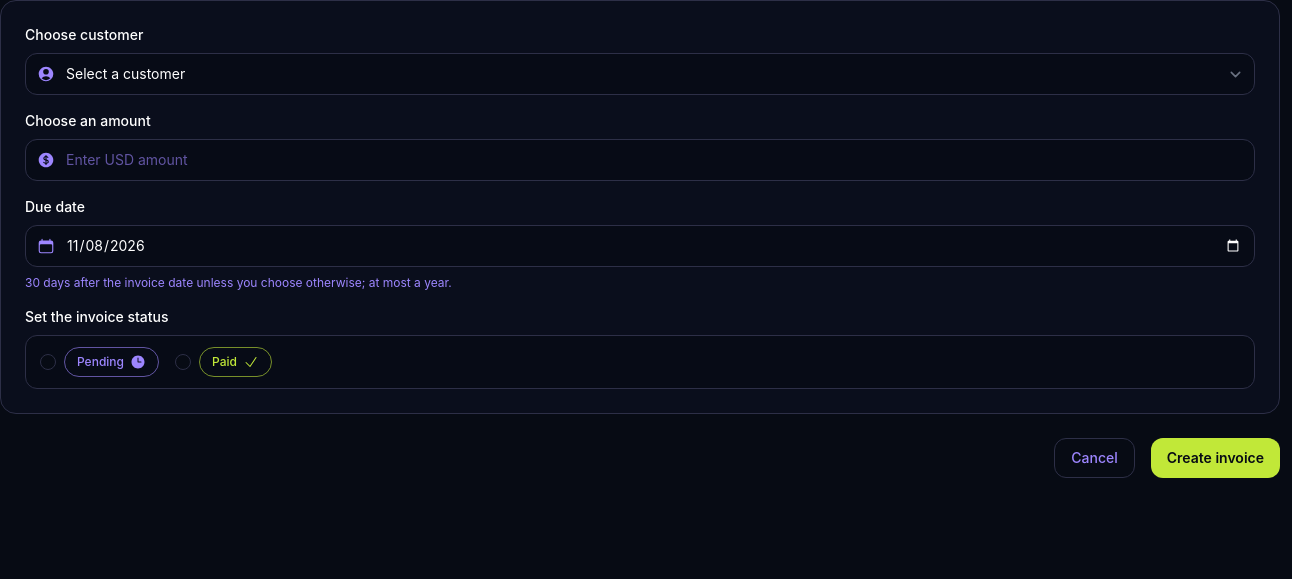
Test: the invoice create form › refuses an empty form with an error beside each field, and writes nothing
This screenshot has width=1292, height=579.
Click the button "Create invoice": (1215, 458) [1151,438,1280,478]
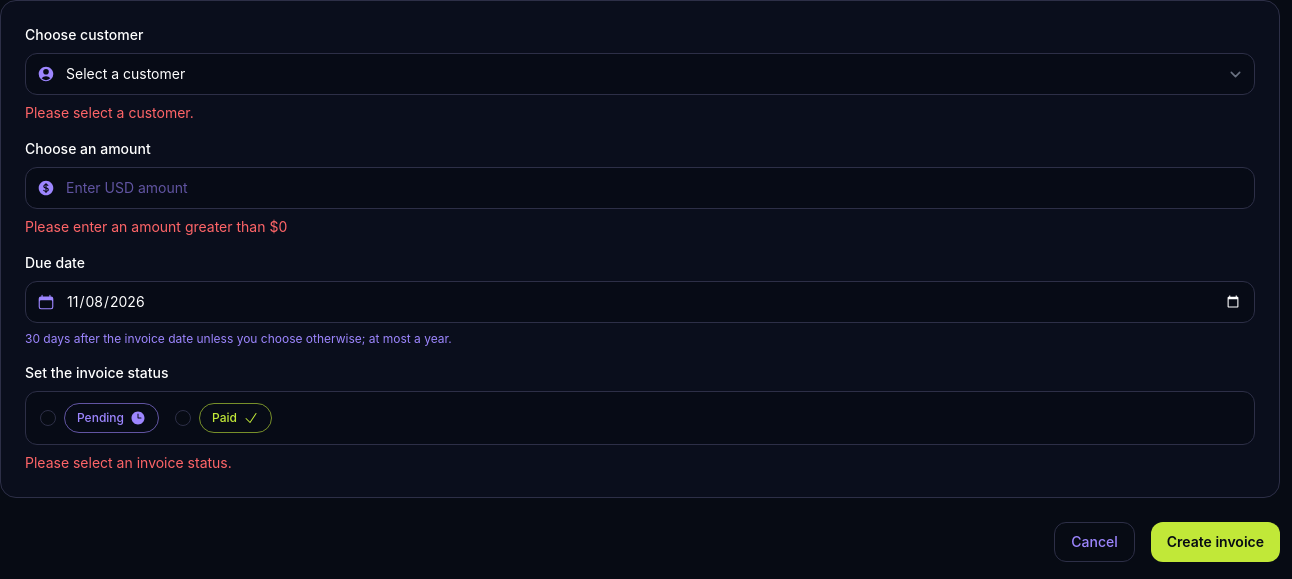
Result: the element with id "customer-error" is shown at [25,104,194,121]
Result: the element with id "amount-error" is shown at [25,218,287,235]
Result: the element with id "status-error" is shown at [25,454,232,471]
